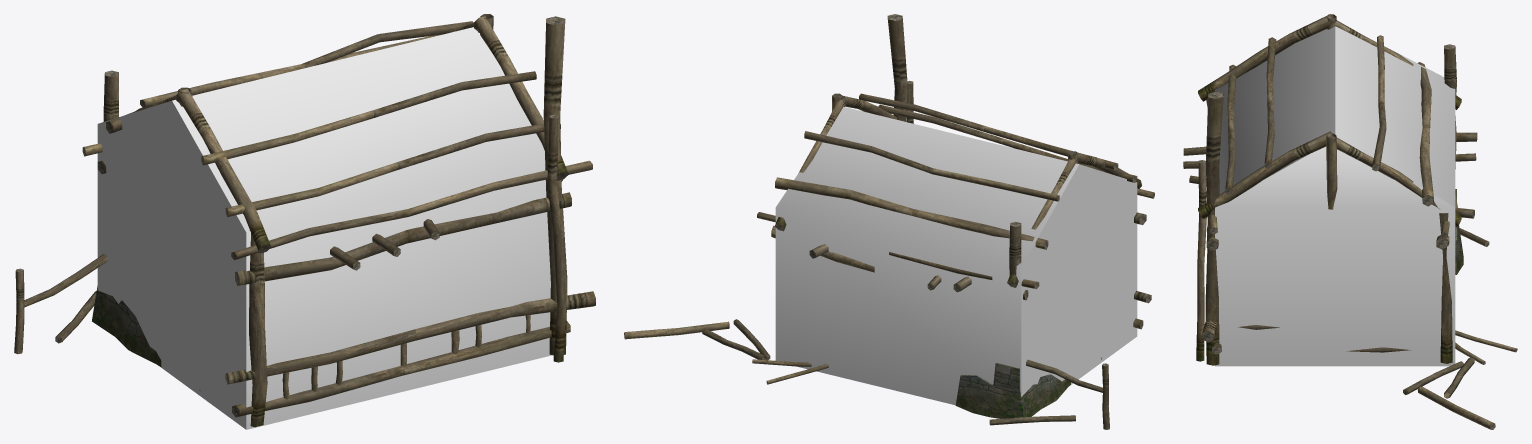
File: YHJ_caopeng_b.FBX
3 views of the same model, side by side, from view 1: azimuth 30°, elevation 25°; view 2: azimuth 150°, elevation 25°; view 3: azimuth 270°, elevation 25° (orthographic). The views are drawn at different scales.
Visible parts, largest first — view 1: YHJ_caopeng_b-col, YHJ_caopeng_b; view 2: YHJ_caopeng_b-col, YHJ_caopeng_b; view 3: YHJ_caopeng_b-col, YHJ_caopeng_b.
Boxes of the visible parts, <box> form: YHJ_caopeng_b-col: <box>97,27,551,429</box>; YHJ_caopeng_b: <box>14,14,595,427</box>; YHJ_caopeng_b-col: <box>775,107,1137,405</box>; YHJ_caopeng_b: <box>624,14,1154,429</box>; YHJ_caopeng_b-col: <box>1215,26,1455,366</box>; YHJ_caopeng_b: <box>1183,14,1517,429</box>.
Bounding box in the file's own units: 70.21 × 38.16 × 42.96.
